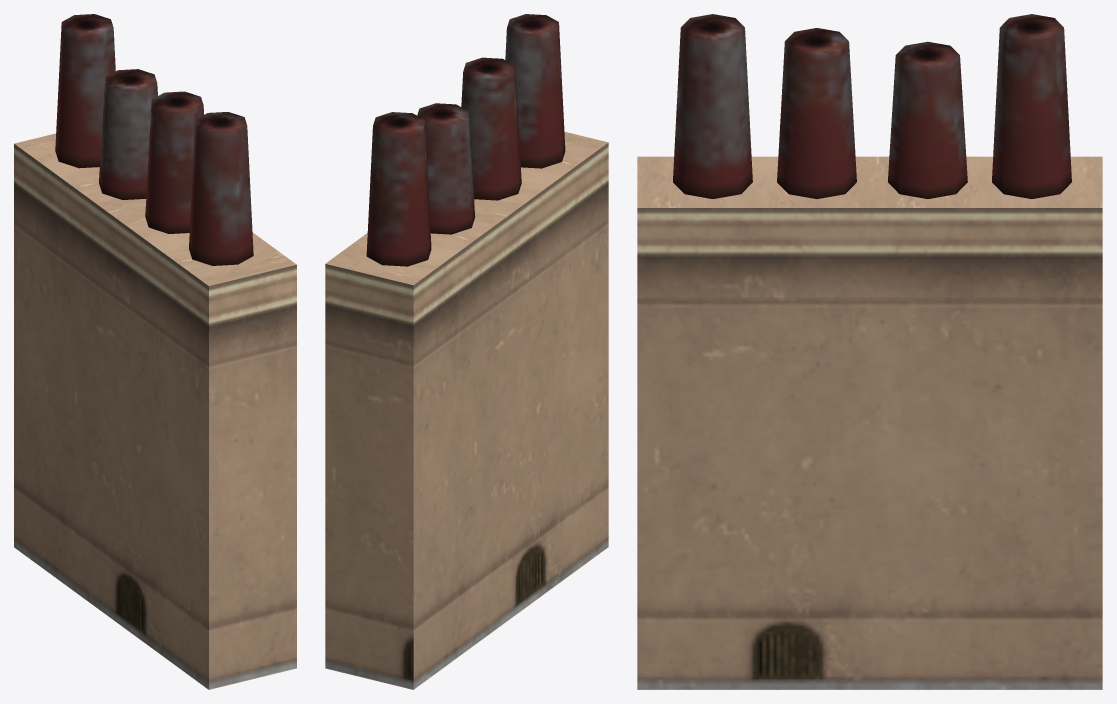
3 views of the same model, side by side, from view 1: azimuth 30°, elevation 25°; view 2: azimuth 150°, elevation 25°; view 3: azimuth 270°, elevation 25° (orthographic). The views are drawn at different scales.
Parts seen in each view (by area): view 1: um_t1_ar201_model_t1_ar201_modelShape; view 2: um_t1_ar201_model_t1_ar201_modelShape; view 3: um_t1_ar201_model_t1_ar201_modelShape.
Part boxes in pixels (left/top/right/bottom): um_t1_ar201_model_t1_ar201_modelShape: left=14, top=14, right=296, bottom=689; um_t1_ar201_model_t1_ar201_modelShape: left=325, top=14, right=608, bottom=689; um_t1_ar201_model_t1_ar201_modelShape: left=637, top=14, right=1102, bottom=689.
Bounding box in the file's own units: 0.3976 × 2.3 × 1.52.
2 materials, 2 textured.
